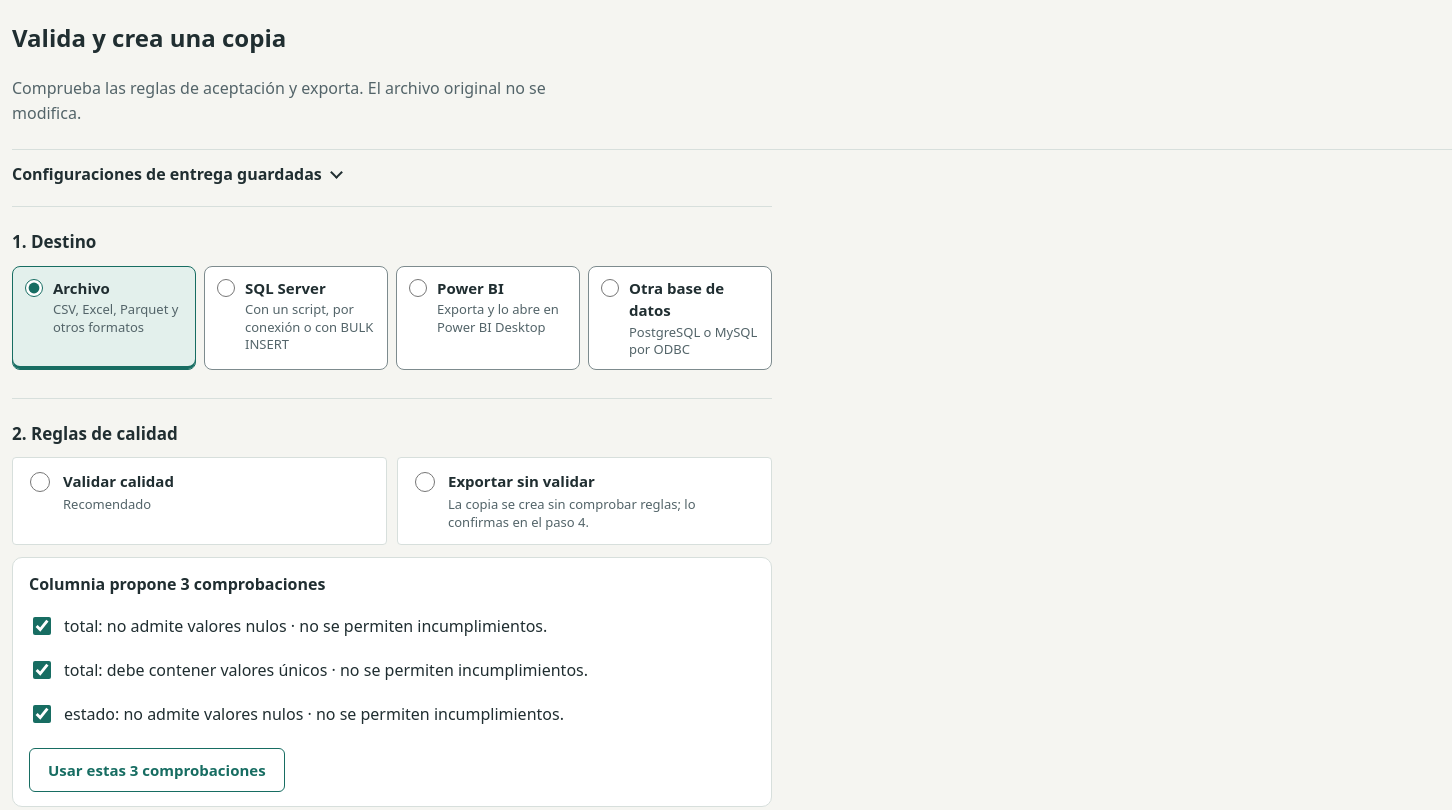
comprobaciones propuestas en Entregar › no da por elegido «Exportar sin validar» mientras propone comprobaciones
The image size is (1452, 810).
Expected: the radio button labelled "Validar calidad Recomendado" is not checked, [30,472,50,492]
Expected: the element "Columnia propone 3 comprobaciones" is shown, [12,557,772,807]
Click the radio button labelled "Exportar sin validar" at point(425, 482), box [415,472,435,492]
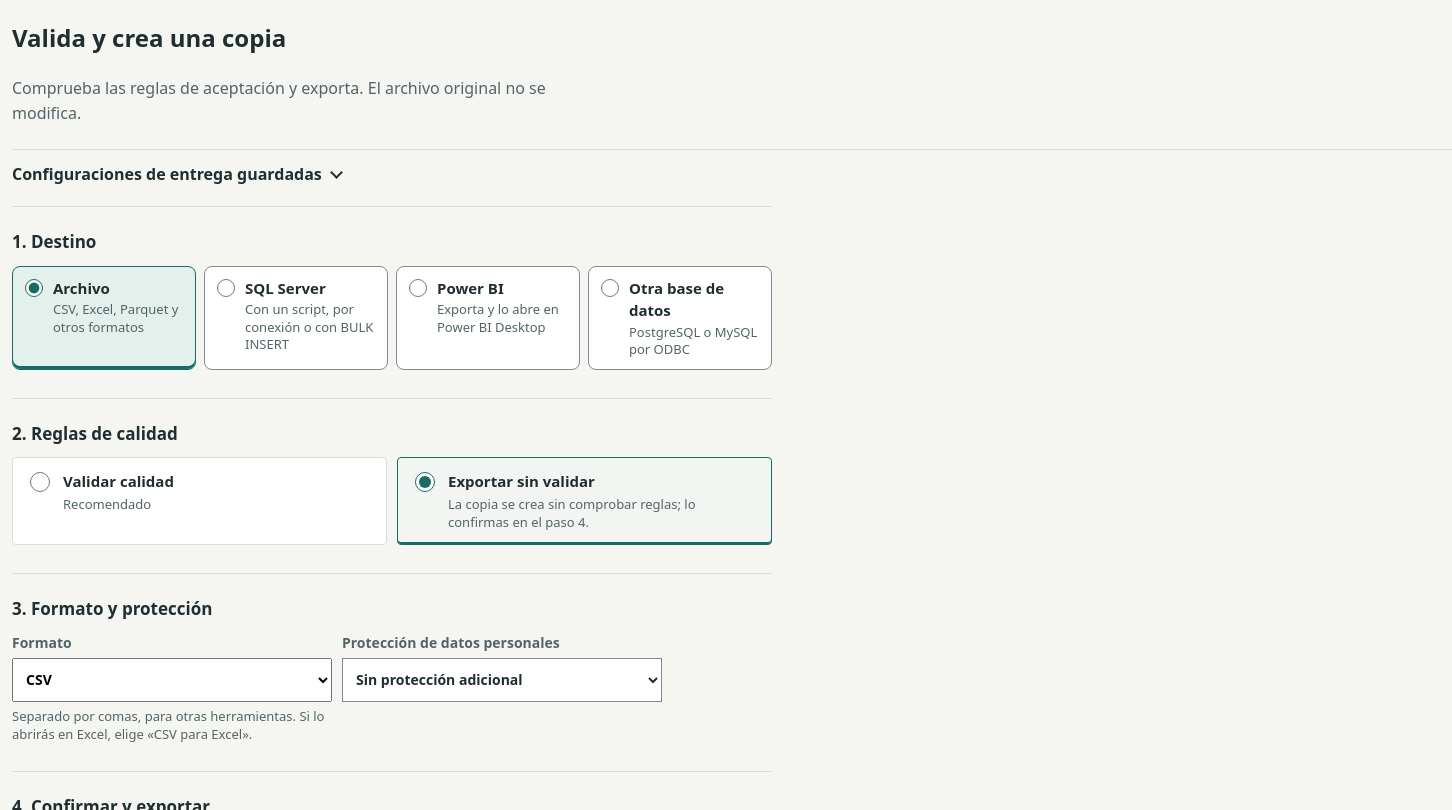
Expected: the radio button labelled "Exportar sin validar" is checked, [415,472,435,492]
Expected: the heading "Columnia propone" is gone
